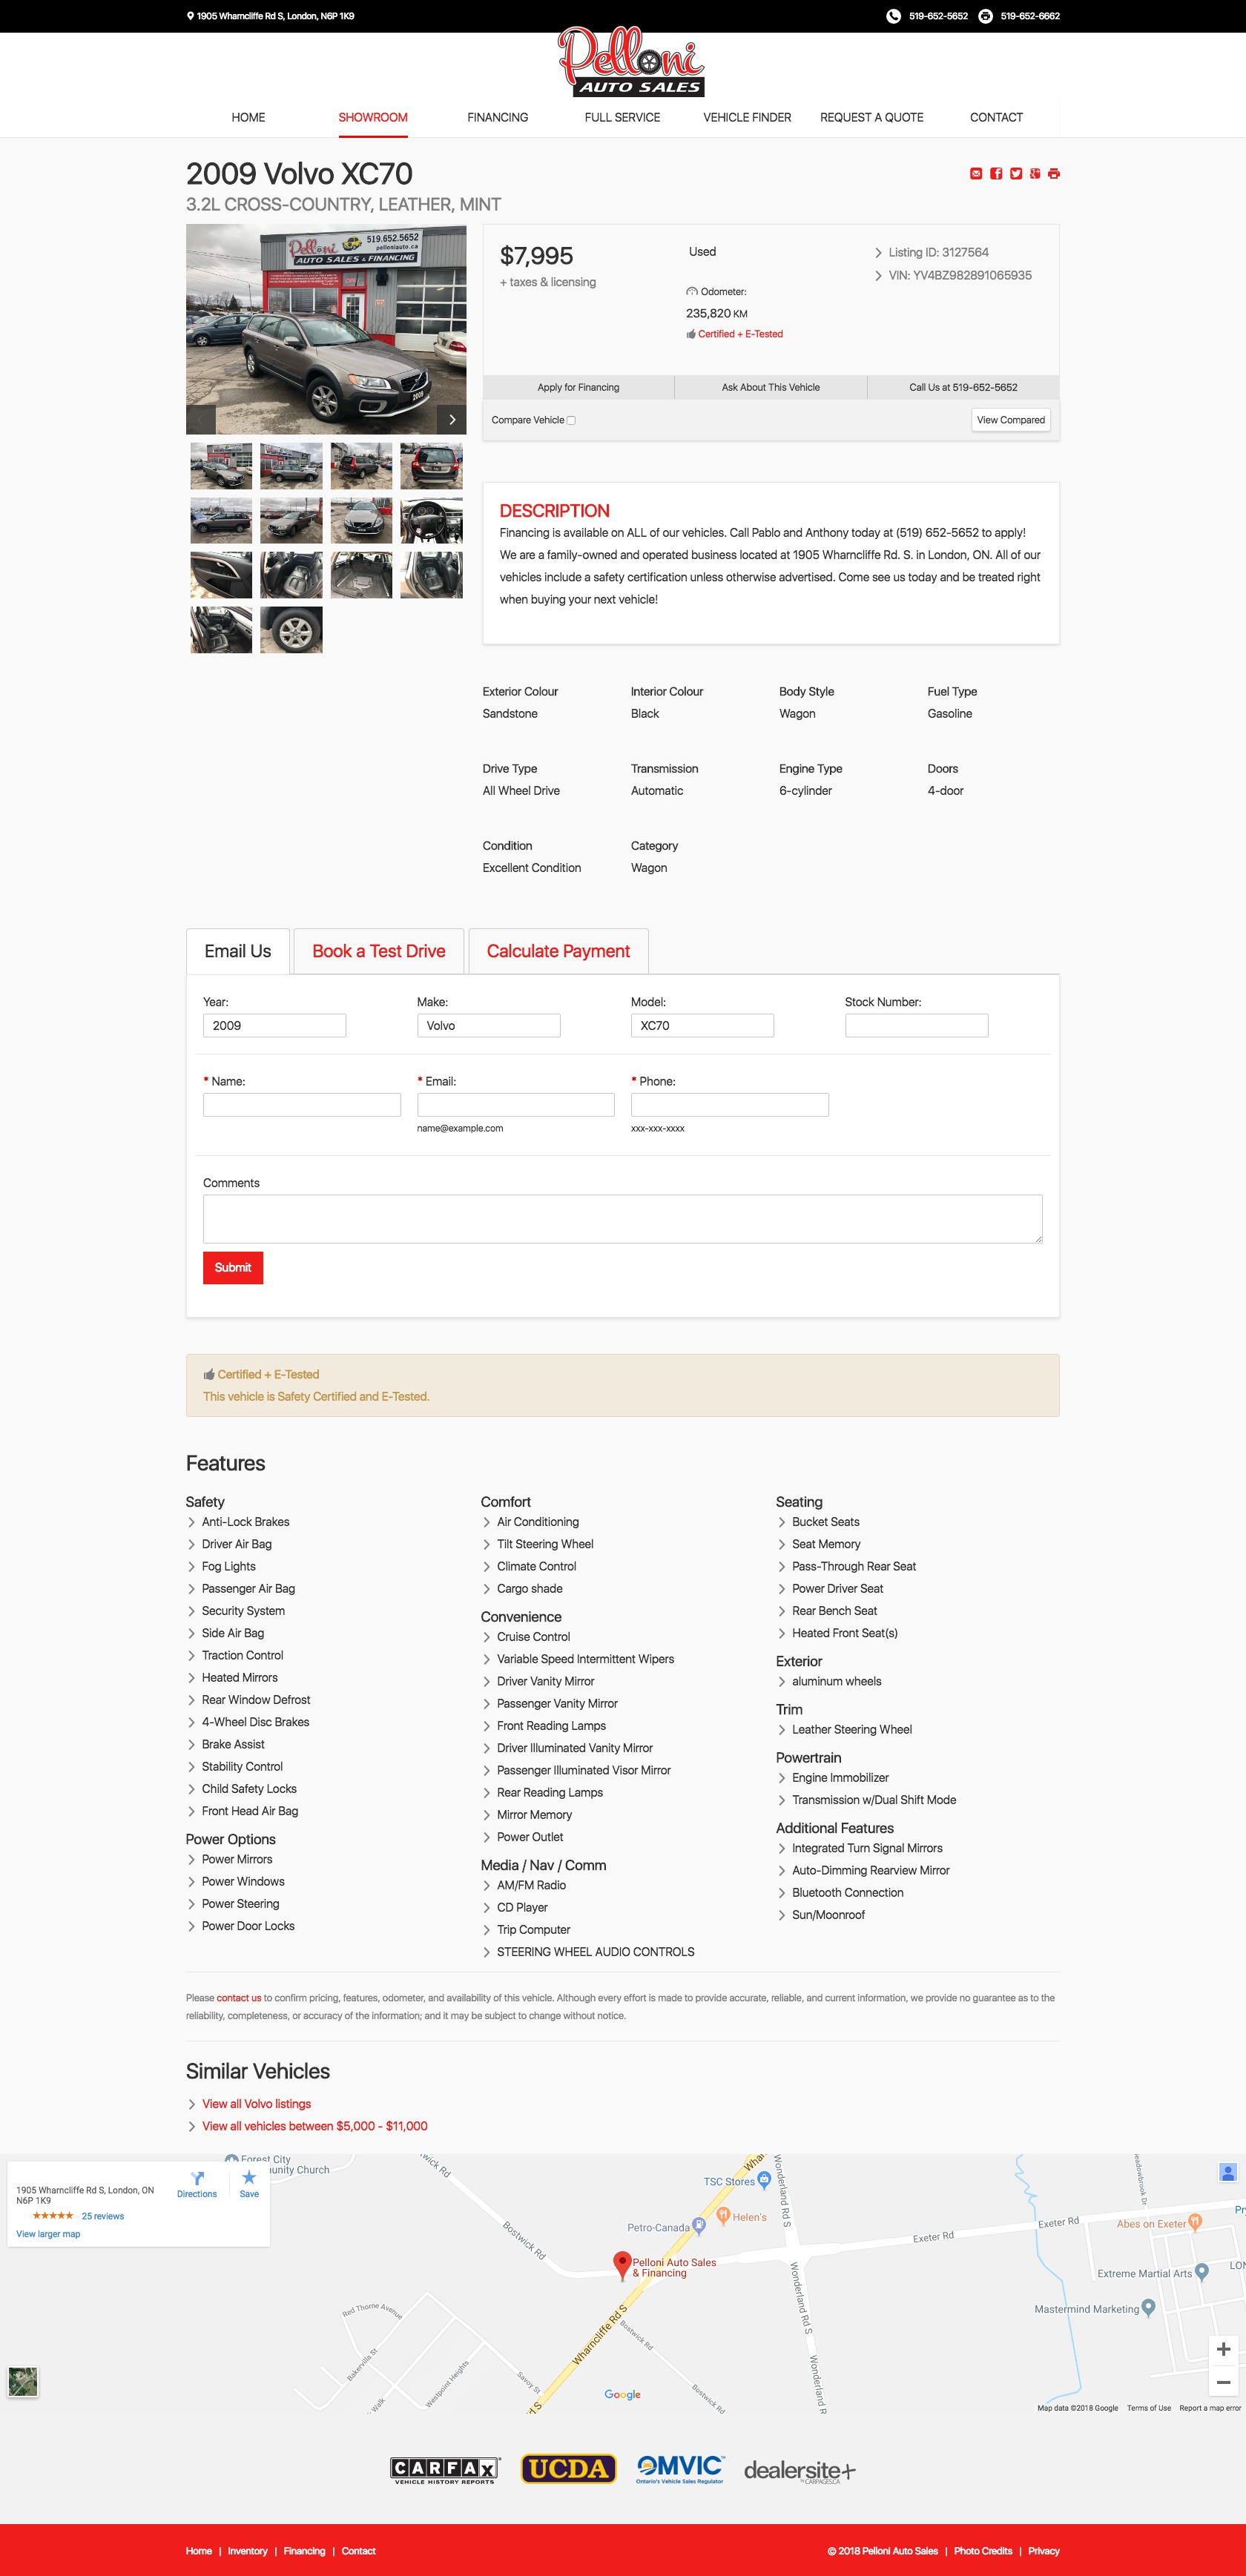car: (436, 404, 468, 435)
